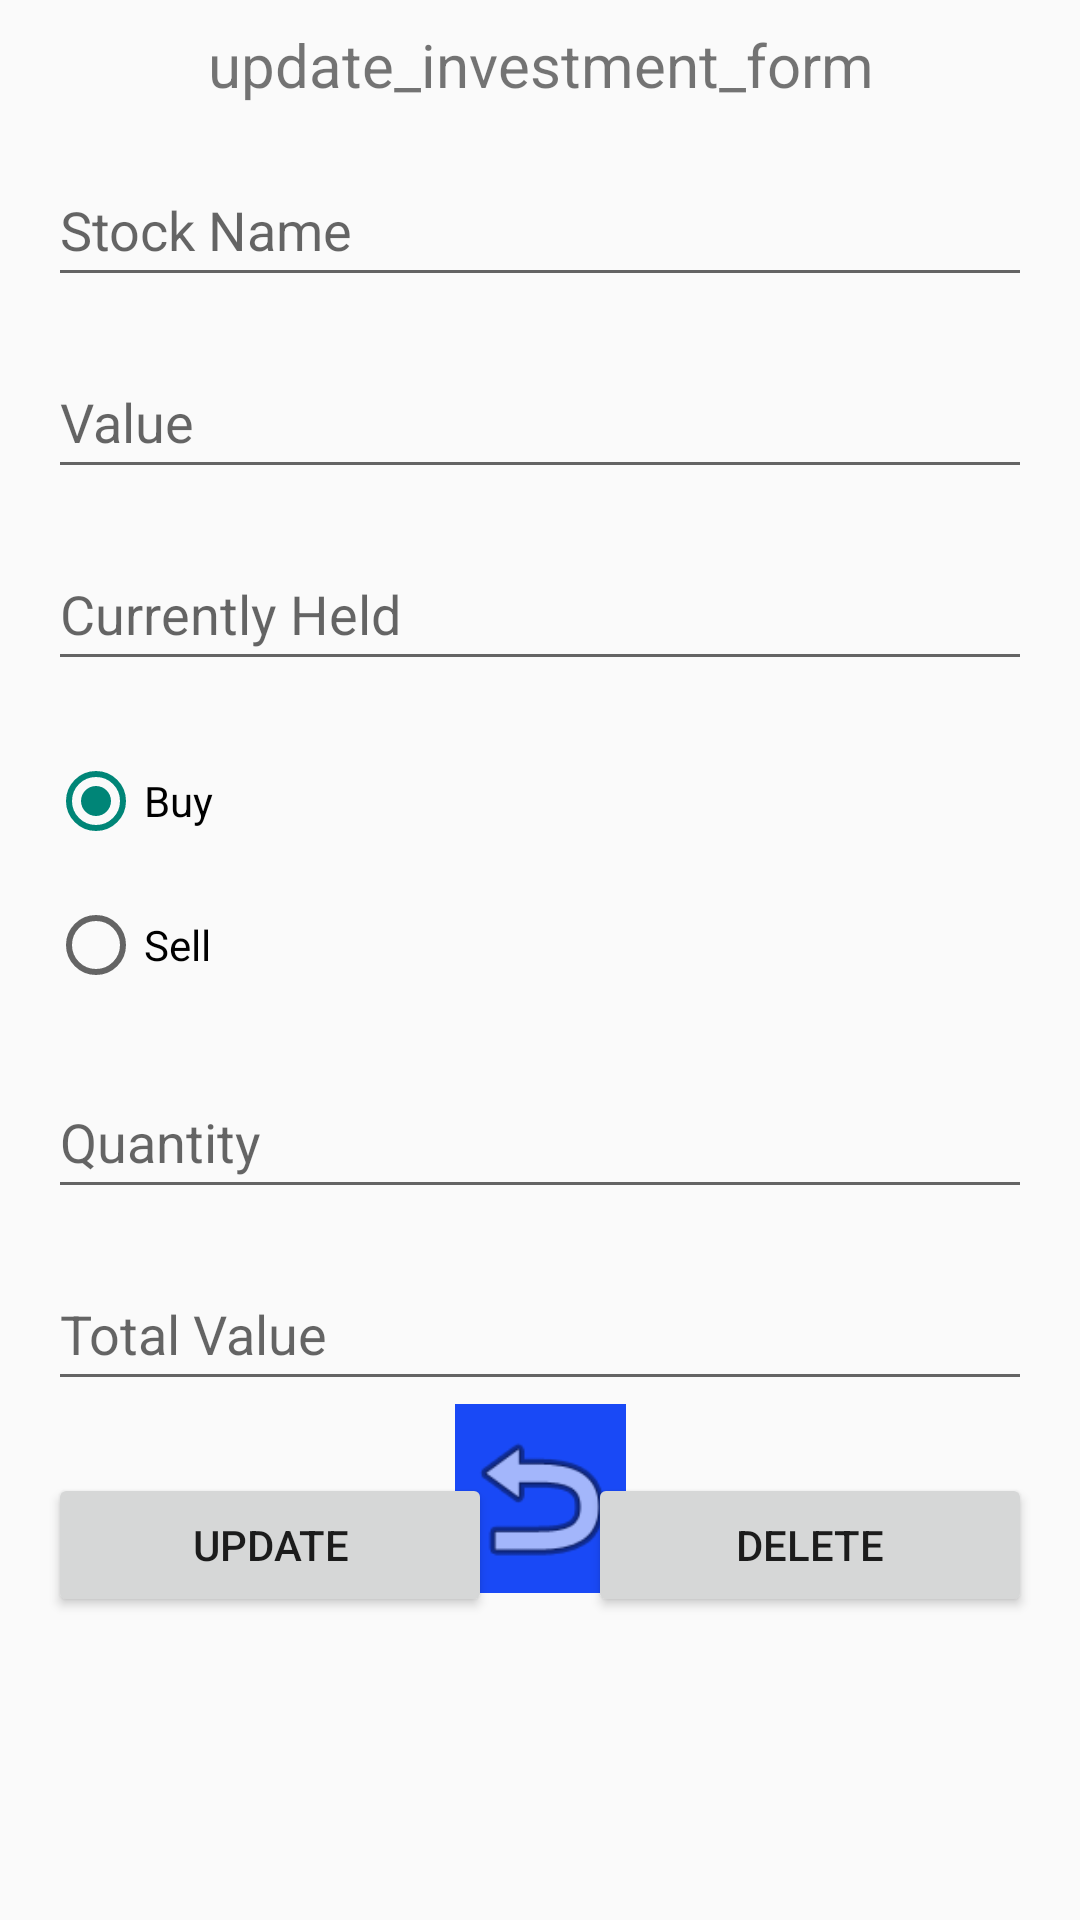

Point at icon controls on the screen. Image size 1080*1920, points as (x=x, y=y).
revert: (x=540, y=1498)
